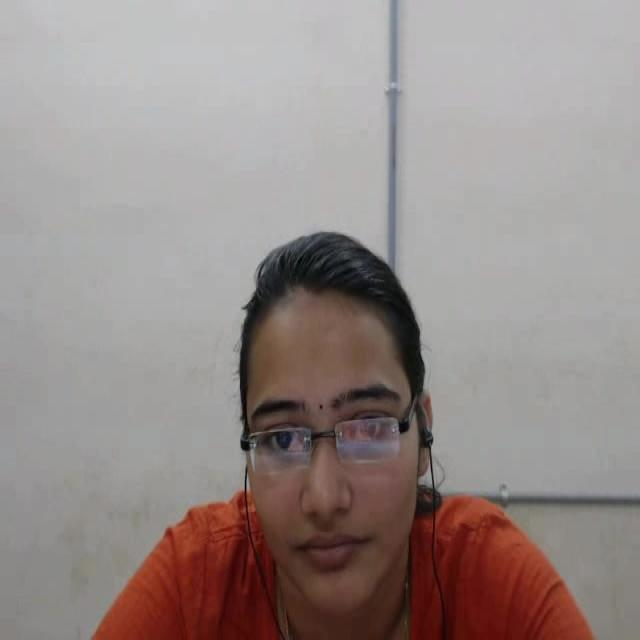Engaged: (178, 214, 528, 640)
